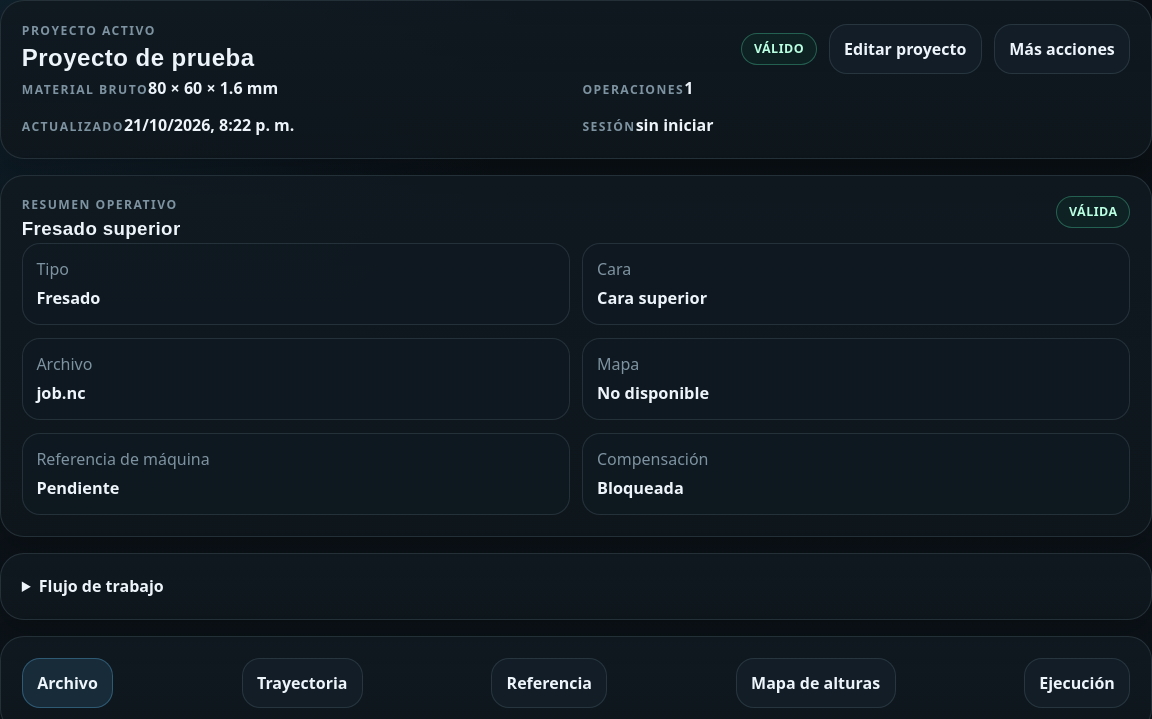
it: ProjectWorkspace › lee y muestra la posición capturada estructurada de la referencia física
This screenshot has width=1152, height=719.
Click the button "Referencia" at (549, 683), box [491,658,607,708]
(page scrolled)
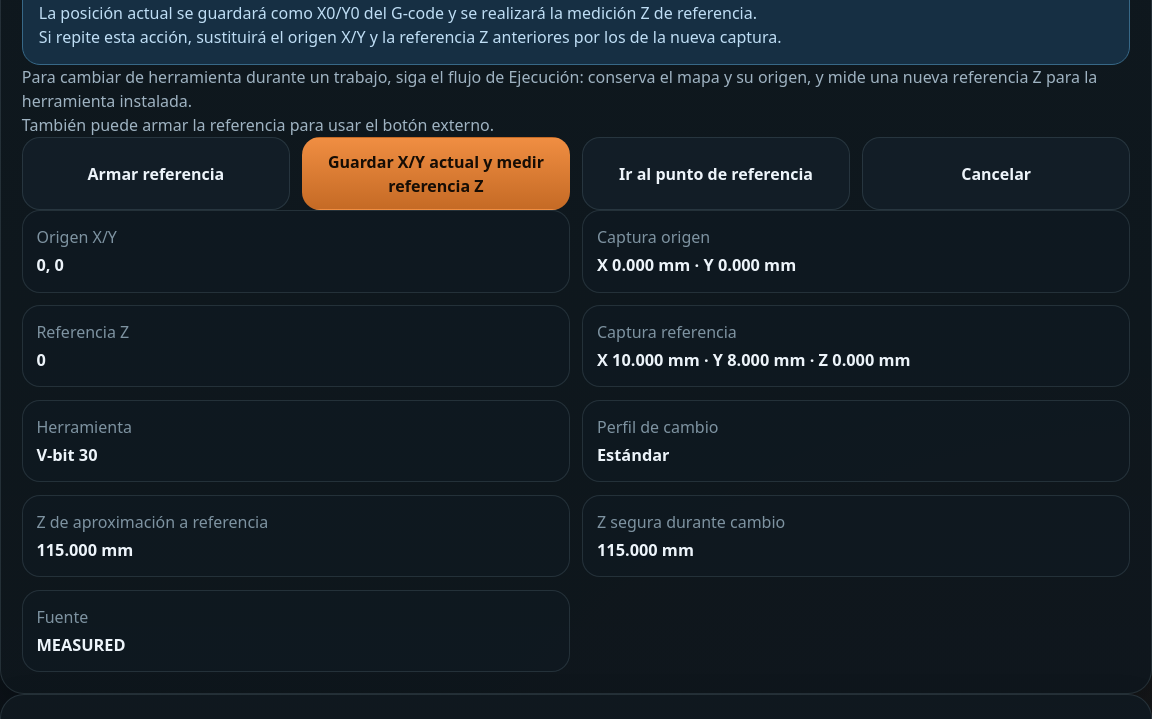
Result: the text "Captura referencia" is shown at [597,321,737,343]
Result: the text "X 10.000 mm · Y 8.000 mm · Z 0.000 mm" is shown at [597,349,911,371]
